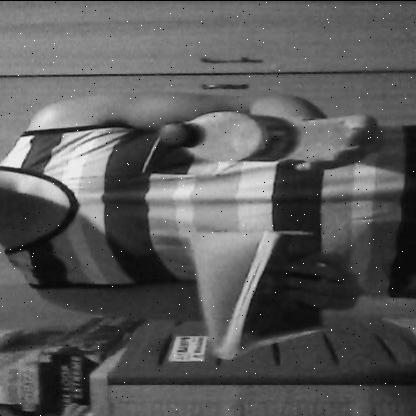Plastic Bottle: (155, 105, 364, 165)
